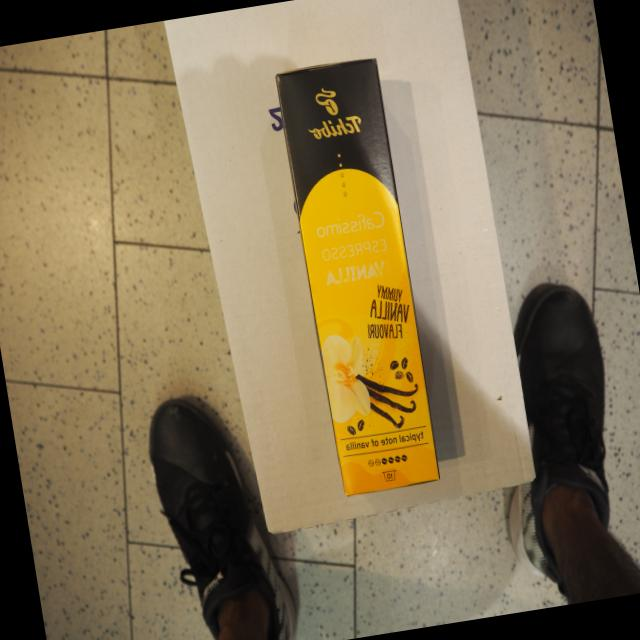Simo Es Vanilla: (274, 52, 446, 498)
